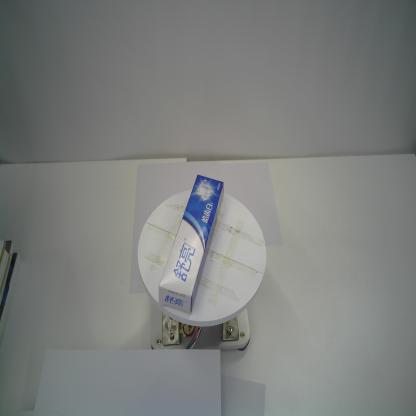Personal Hygiene: (156, 172, 224, 315)
